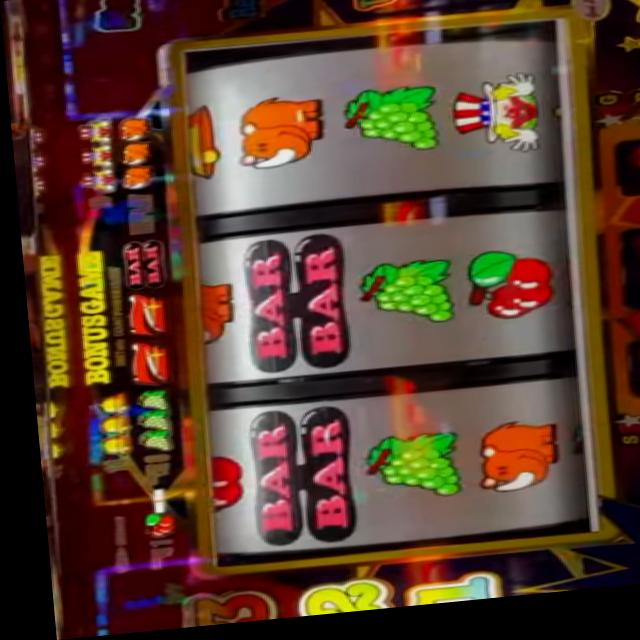bar: (239, 409, 355, 553), (233, 236, 349, 378), (114, 238, 162, 292)
bell: (182, 106, 222, 186), (89, 434, 127, 461), (87, 414, 126, 438), (88, 393, 126, 417)
cherry: (454, 253, 550, 332), (195, 457, 235, 522), (129, 514, 167, 542)
clown: (443, 80, 547, 168), (76, 168, 118, 199), (73, 118, 117, 146), (74, 145, 117, 172)
display: (165, 24, 600, 572)
elephant: (226, 93, 327, 177), (459, 425, 557, 504), (193, 284, 234, 348), (119, 167, 154, 192), (116, 118, 148, 144), (118, 143, 152, 167)
grape: (333, 88, 441, 165), (351, 436, 461, 510), (347, 263, 453, 338), (131, 430, 169, 458), (127, 391, 168, 416), (128, 410, 167, 435)
z: (119, 340, 170, 388), (116, 293, 167, 340)
